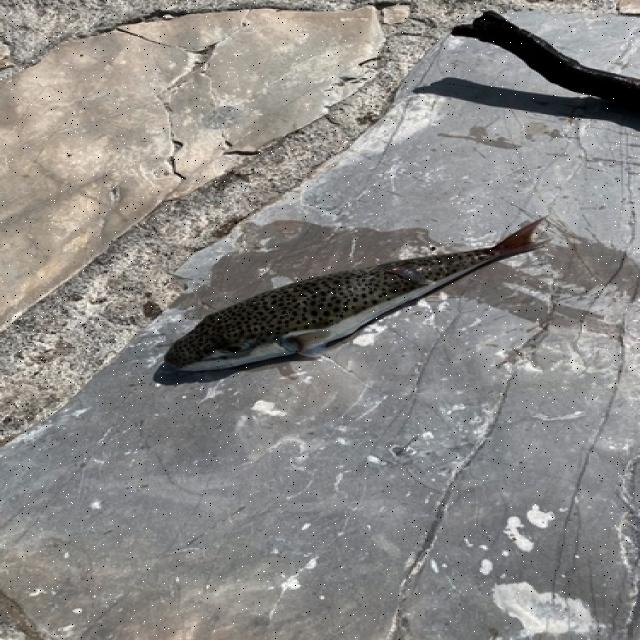Balik: (164, 219, 542, 371)
